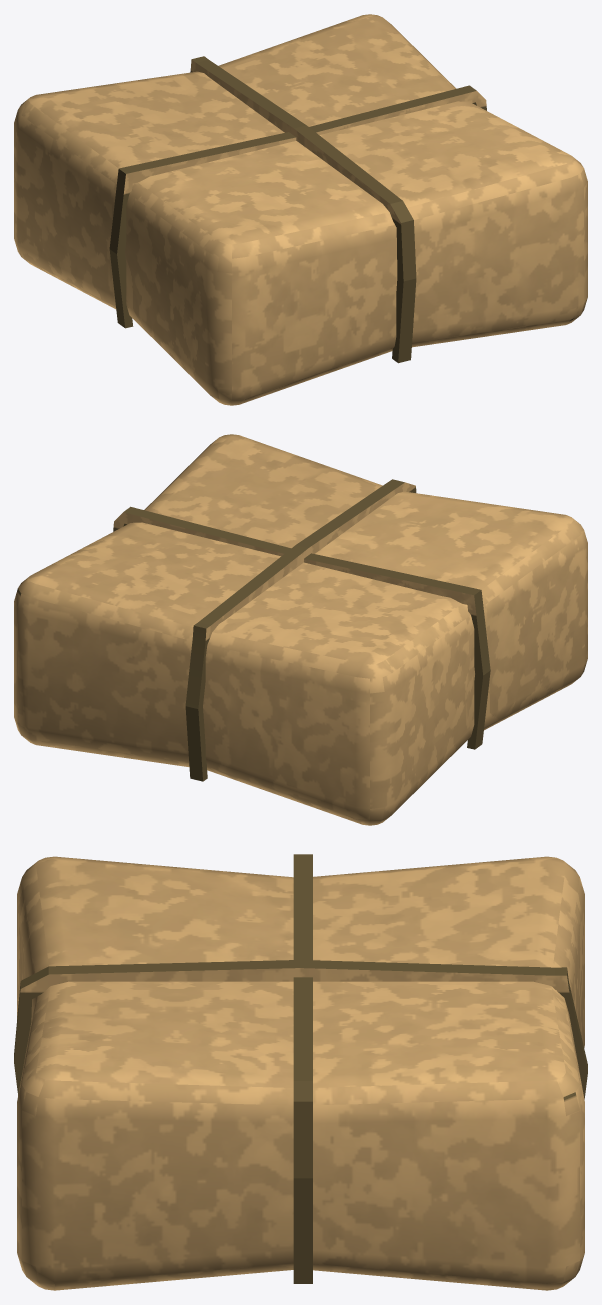
Rendered from Paja01_FBX.FBX.
3 renders of one model, top to bottom at view 1: azimuth 30°, elevation 25°; view 2: azimuth 150°, elevation 25°; view 3: azimuth 270°, elevation 25°, orthographic. The views are drawn at different scales.
Visible parts, largest first — view 1: Paja, Cuerda; view 2: Paja, Cuerda; view 3: Paja, Cuerda.
Boxes of the visible parts, x1,y1,x2,y2 form: Paja: [14, 14, 587, 405]; Cuerda: [109, 56, 486, 363]; Paja: [14, 434, 587, 825]; Cuerda: [113, 479, 490, 781]; Paja: [17, 856, 584, 1290]; Cuerda: [14, 854, 587, 1283].
Bounding box in the file's own units: 2.43 × 1.04 × 2.46.
Materials: 1 (1 with a texture image).
